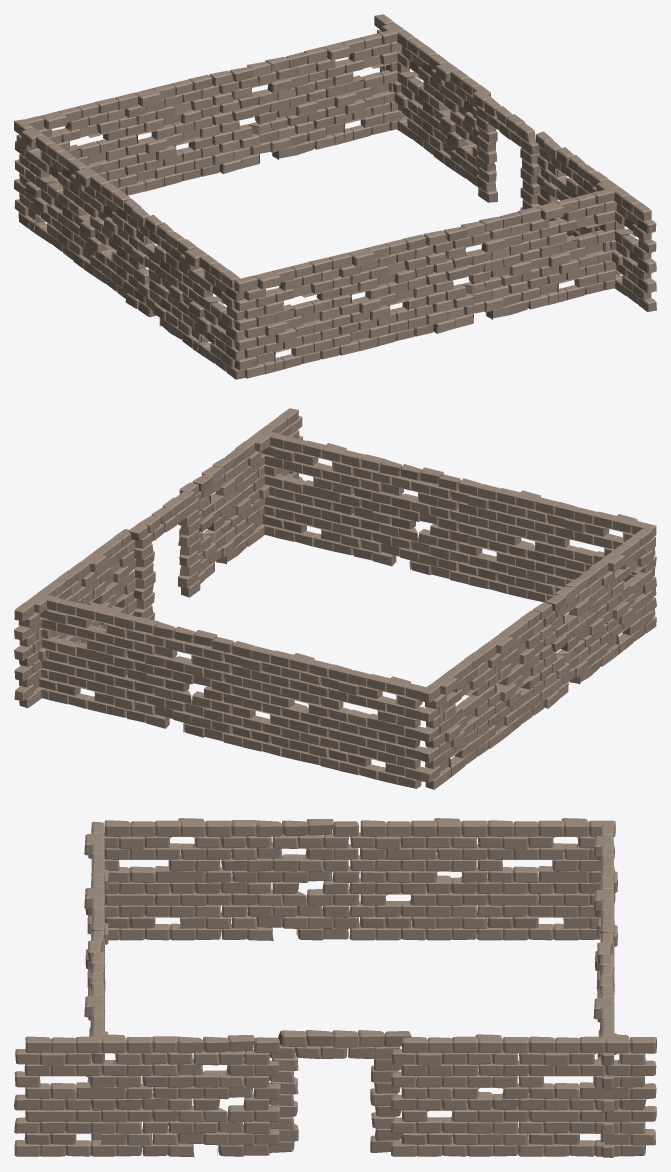
Rendered from Room.fbx.
3 renders of one model, top to bottom at view 1: azimuth 30°, elevation 25°; view 2: azimuth 150°, elevation 25°; view 3: azimuth 270°, elevation 25°, orthographic. The views are drawn at different scales.
Visible parts, largest first — view 1: Kamer 1; view 2: Kamer 1; view 3: Kamer 1.
Boxes of the visible parts, left/top/right/bottom form: Kamer 1: left=14, top=14, right=656, bottom=379; Kamer 1: left=14, top=408, right=656, bottom=789; Kamer 1: left=14, top=818, right=656, bottom=1157.
Size of the model in its own units: 8471 by 2059 by 10149.
